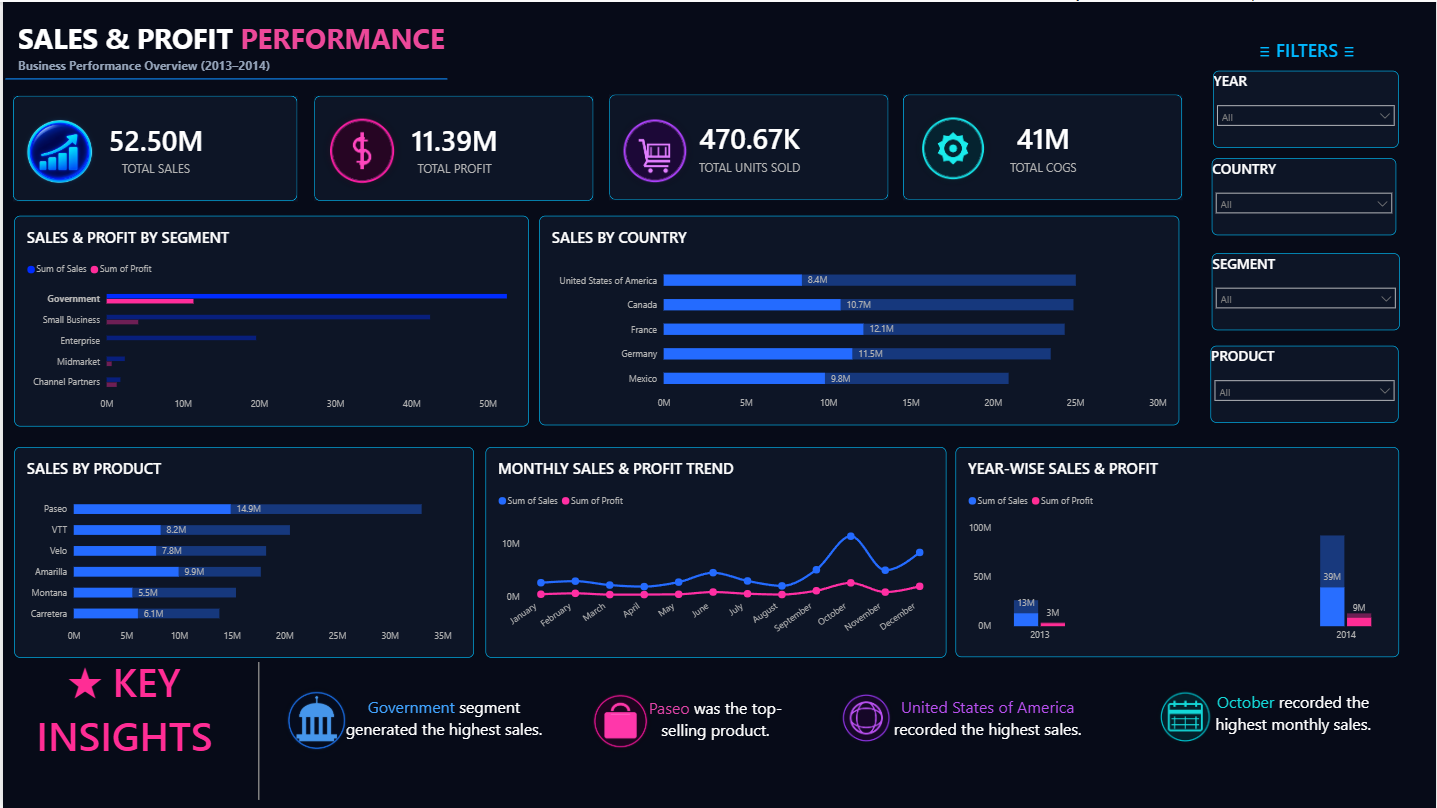

What the dashboard file says about the page in this screenshot:
{"tool":"powerbi","page":{"name":"Sales & Profit Overview","canvas":[1920,1080],"ordinal":0},"visuals":[{"type":"textbox","box":[20.9,22.7,577,162.2],"z":0},{"type":"slicer","title":"YEAR","fields":{"Values":["Week4_Final_Cleaned_Sales_Data.Year"]},"box":[1622.3,92.4,248.8,103.1],"z":0,"group":"g1"},{"type":"shape","box":[3.5,82,592,41.9],"z":1000},{"type":"slicer","title":"COUNTRY","fields":{"Values":["Week4_Final_Cleaned_Sales_Data.Country"]},"box":[1620.9,209.9,247.1,103.1],"z":1000,"group":"g1"},{"type":"cardVisual","fields":{"Data":["Sum(Week4_Final_Cleaned_Sales_Data.Sales)"]},"box":[14,125.6,381.6,141.3],"z":2000},{"type":"slicer","title":"SEGMENT","fields":{"Values":["Week4_Final_Cleaned_Sales_Data.Segment"]},"box":[1619.5,337.5,252,103.1],"z":2000,"group":"g1"},{"type":"cardVisual","fields":{"Data":["Sum(Week4_Final_Cleaned_Sales_Data.Profit)"]},"box":[416.9,125.9,374,141],"z":3000},{"type":"slicer","title":"PRODUCT","fields":{"Values":["Week4_Final_Cleaned_Sales_Data.Product"]},"box":[1618.6,461.2,252,103.1],"z":3000,"group":"g1"},{"type":"cardVisual","fields":{"Data":["Sum(Week4_Final_Cleaned_Sales_Data.Units Sold)"]},"box":[812.1,123.8,374,141.3],"z":4000},{"type":"cardVisual","fields":{"Data":["Sum(Week4_Final_Cleaned_Sales_Data.COGS)"]},"box":[1205.9,123.8,374.3,141.3],"z":5000},{"type":"clusteredBarChart","title":"SALES & PROFIT BY SEGMENT","fields":{"Category":["Week4_Final_Cleaned_Sales_Data.Segment"],"Y":["Sum(Week4_Final_Cleaned_Sales_Data.Sales)","Sum(Week4_Final_Cleaned_Sales_Data.Profit)"]},"box":[15.7,286,689.3,282.6],"z":6000},{"type":"clusteredBarChart","title":"SALES BY COUNTRY","fields":{"Category":["Week4_Final_Cleaned_Sales_Data.Country"],"Y":["Sum(Week4_Final_Cleaned_Sales_Data.Sales)"]},"box":[718.6,286,857.8,280.8],"z":7000},{"type":"clusteredBarChart","title":"SALES BY PRODUCT","fields":{"Category":["Week4_Final_Cleaned_Sales_Data.Product"],"Y":["Sum(Week4_Final_Cleaned_Sales_Data.Sales)"]},"box":[15.7,596.5,616,282.6],"z":8000},{"type":"lineChart","title":"MONTHLY SALES & PROFIT TREND","fields":{"Category":["Week4_Final_Cleaned_Sales_Data.Month Name"],"Y":["Sum(Week4_Final_Cleaned_Sales_Data.Sales)","Sum(Week4_Final_Cleaned_Sales_Data.Profit)"]},"box":[647.1,596.5,617.4,282.6],"z":9000},{"type":"group","id":"g1","title":"Group 1","box":[1618.6,92.4,252.9,472],"z":10000},{"type":"textbox","box":[1657,48.8,181.4,43.3],"z":11000},{"type":"clusteredColumnChart","title":"YEAR-WISE SALES & PROFIT","fields":{"Category":["Week4_Final_Cleaned_Sales_Data.Year"],"Y":["Sum(Week4_Final_Cleaned_Sales_Data.Sales)","Sum(Week4_Final_Cleaned_Sales_Data.Profit)"]},"box":[1276.7,596.5,594.8,281.9],"z":12000},{"type":"textbox","box":[10.5,873.8,305.2,200.6],"z":13000},{"type":"image","box":[6.3,113.4,139.2,174.4],"z":13001},{"type":"image","box":[427.3,116.9,108.1,164],"z":13002},{"type":"image","box":[820.8,112.3,105.7,174.4],"z":13003},{"type":"image","box":[1220.9,108.5,104.3,174.4],"z":13004},{"type":"shape","box":[205,885,276.7,185],"z":13005},{"type":"textbox","box":[446.2,930,290.6,150],"z":13006},{"type":"image","box":[363.8,916,113.7,93.1],"z":13007},{"type":"textbox","box":[850.5,931.7,207.6,64.2],"z":13008},{"type":"image","box":[782.4,920.9,90.7,85.1],"z":13009},{"type":"textbox","box":[1186,930.4,266.9,81.6],"z":13010},{"type":"image","box":[1115.2,921.3,82.3,76],"z":13011},{"type":"textbox","box":[1618.3,923.7,221.2,83],"z":13012},{"type":"image","box":[1541.5,918.1,86.5,80.2],"z":13013}]}

Visuals, with their boxes in screenshot pixels (x1, y1, x2, y2), scaled from the page's 1920x1080 canvas onto the 1437x808 screenshot:
textbox: (left=16, top=17, right=447, bottom=138)
"YEAR" slicer: (left=1214, top=69, right=1400, bottom=146)
shape: (left=3, top=61, right=446, bottom=93)
"COUNTRY" slicer: (left=1213, top=157, right=1398, bottom=234)
cardVisual - Sum(Week4_Final_Cleaned_Sales_Data.Sales): (left=10, top=94, right=296, bottom=200)
"SEGMENT" slicer: (left=1212, top=252, right=1401, bottom=330)
cardVisual - Sum(Week4_Final_Cleaned_Sales_Data.Profit): (left=312, top=94, right=592, bottom=200)
"PRODUCT" slicer: (left=1211, top=345, right=1400, bottom=422)
cardVisual - Sum(Week4_Final_Cleaned_Sales_Data.Units Sold): (left=608, top=93, right=888, bottom=198)
cardVisual - Sum(Week4_Final_Cleaned_Sales_Data.COGS): (left=903, top=93, right=1183, bottom=198)
"SALES & PROFIT BY SEGMENT" clusteredBarChart: (left=12, top=214, right=528, bottom=425)
"SALES BY COUNTRY" clusteredBarChart: (left=538, top=214, right=1180, bottom=424)
"SALES BY PRODUCT" clusteredBarChart: (left=12, top=446, right=473, bottom=658)
"MONTHLY SALES & PROFIT TREND" lineChart: (left=484, top=446, right=946, bottom=658)
"Group 1" group: (left=1211, top=69, right=1401, bottom=422)
textbox: (left=1240, top=37, right=1376, bottom=69)
"YEAR-WISE SALES & PROFIT" clusteredColumnChart: (left=956, top=446, right=1401, bottom=657)
textbox: (left=8, top=654, right=236, bottom=804)
image: (left=5, top=85, right=109, bottom=215)
image: (left=320, top=87, right=401, bottom=210)
image: (left=614, top=84, right=693, bottom=214)
image: (left=914, top=81, right=992, bottom=212)
shape: (left=153, top=662, right=361, bottom=801)
textbox: (left=334, top=696, right=551, bottom=807)
image: (left=272, top=685, right=357, bottom=755)
textbox: (left=637, top=697, right=792, bottom=745)
image: (left=586, top=689, right=653, bottom=753)
textbox: (left=888, top=696, right=1087, bottom=757)
image: (left=835, top=689, right=896, bottom=746)
textbox: (left=1211, top=691, right=1377, bottom=753)
image: (left=1154, top=687, right=1218, bottom=747)
